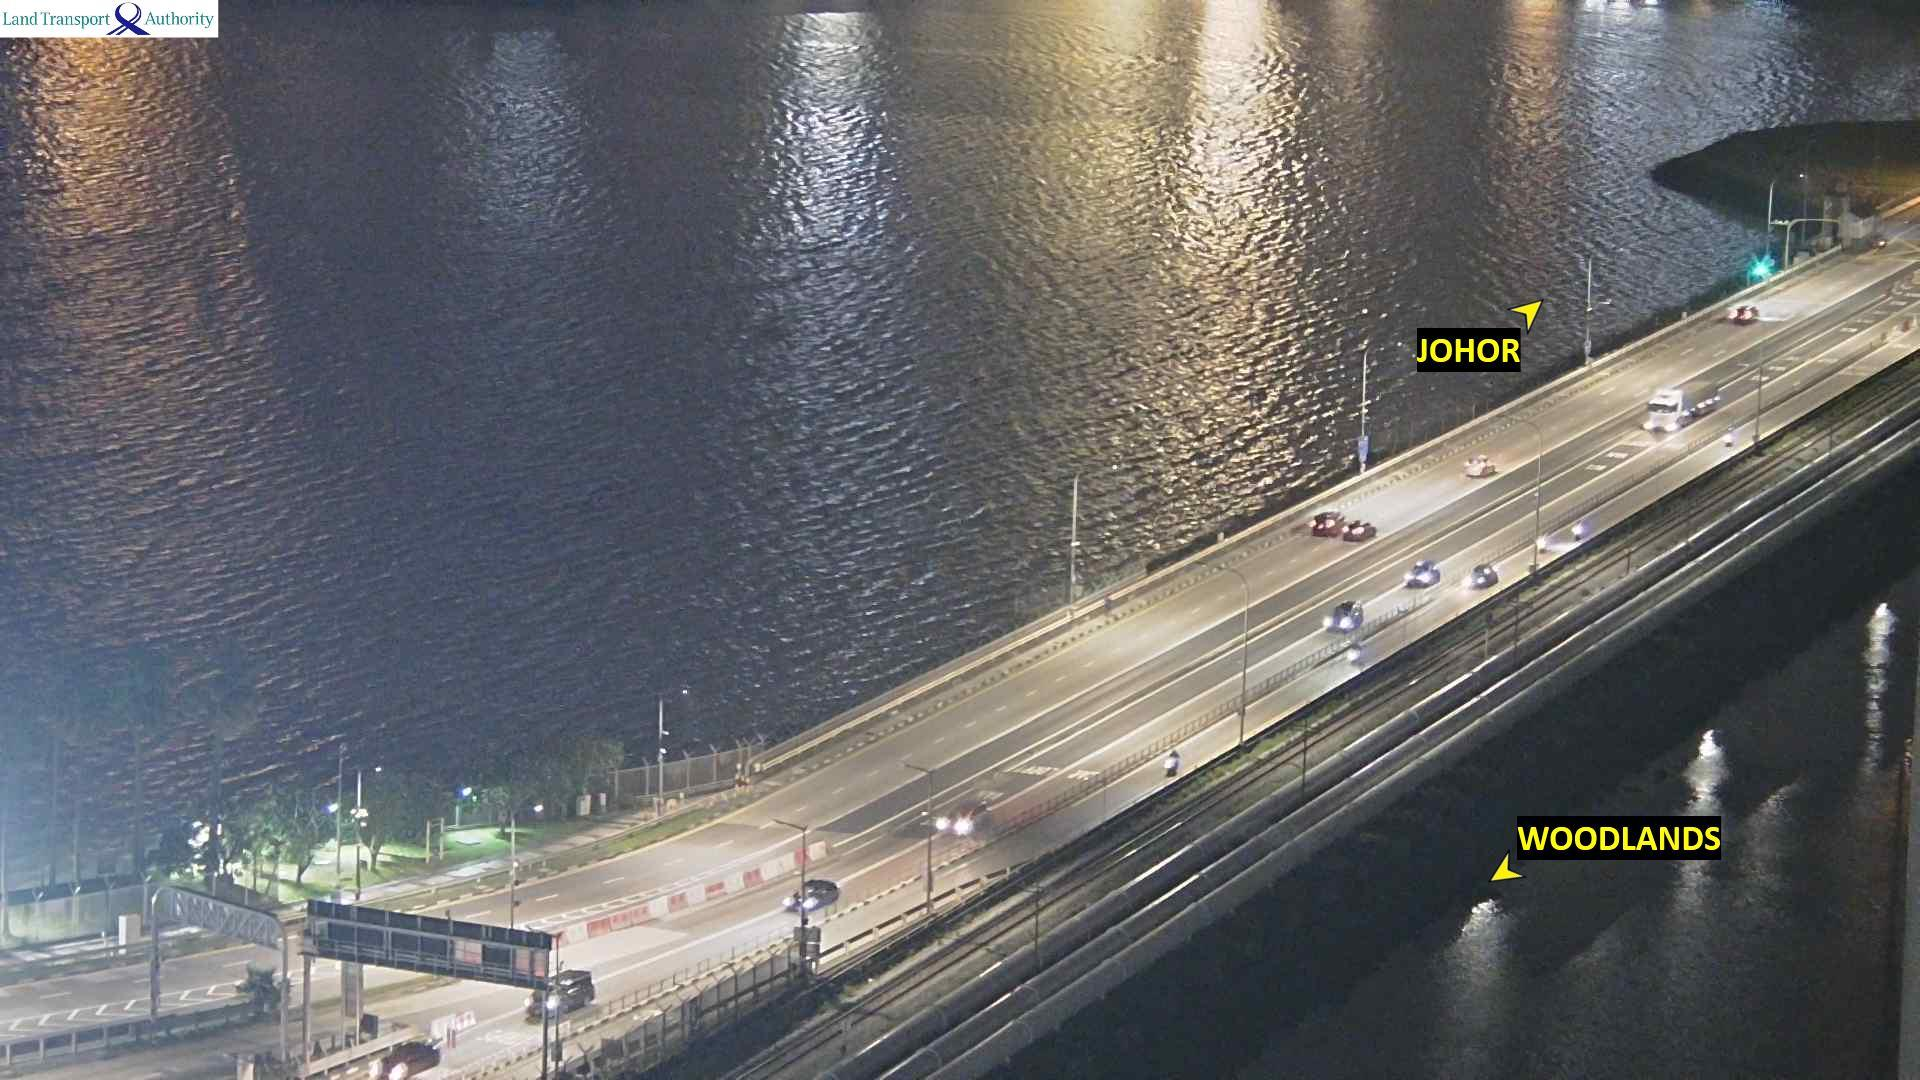vehicle-causeway-johor: (1313, 512, 1349, 538), (1465, 458, 1495, 480), (1345, 520, 1375, 542), (1731, 306, 1760, 324)
vehicle-causeway-singapore: (1640, 381, 1720, 431), (375, 1040, 442, 1080), (533, 972, 591, 1015), (791, 880, 845, 915), (1415, 563, 1455, 593), (945, 803, 986, 832), (1400, 563, 1439, 592), (1333, 601, 1365, 633), (1473, 566, 1497, 591), (1163, 746, 1180, 778), (1346, 640, 1360, 669)
